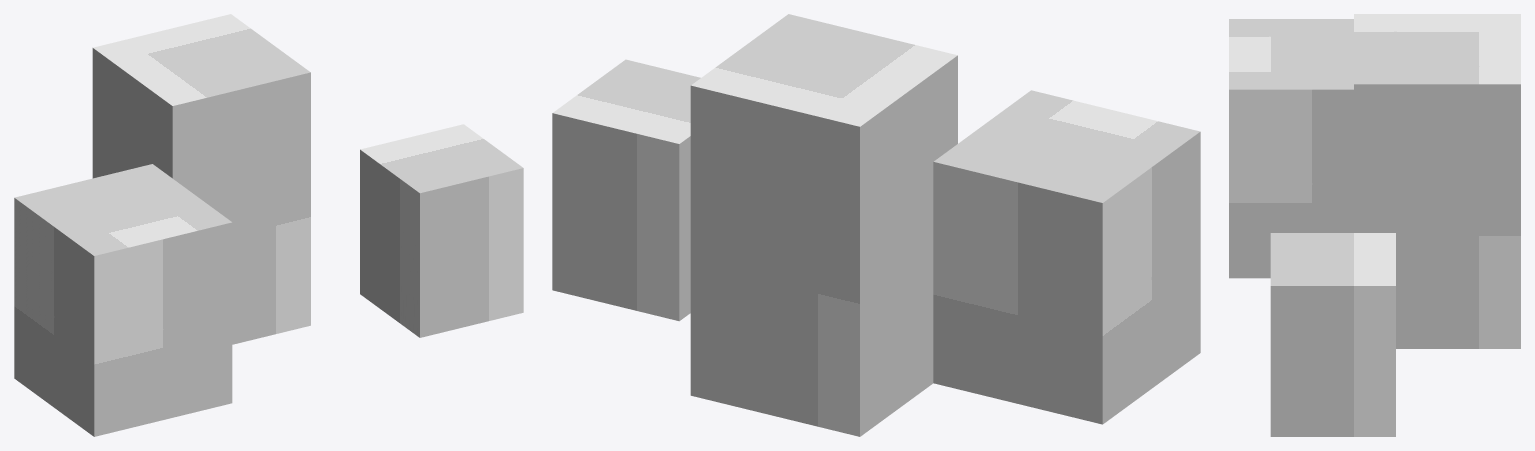
The model's file is block_template_three_turtle_eggs.gltf.
3 renders of one model, left to right at view 1: azimuth 30°, elevation 25°; view 2: azimuth 150°, elevation 25°; view 3: azimuth 270°, elevation 25°, orthographic. The views are drawn at different scales.
Parts seen in each view (by area): view 1: cube (×3); view 2: cube (×3); view 3: cube (×3).
Boxes of the visible parts, <box> form: cube (×3): <box>14,14,523,436</box>; cube (×3): <box>552,14,1200,436</box>; cube (×3): <box>1229,14,1520,436</box>.
Size of the model in its own units: 0.8125 by 0.4375 by 0.4375.
Materials: 1 (1 with a texture image).
